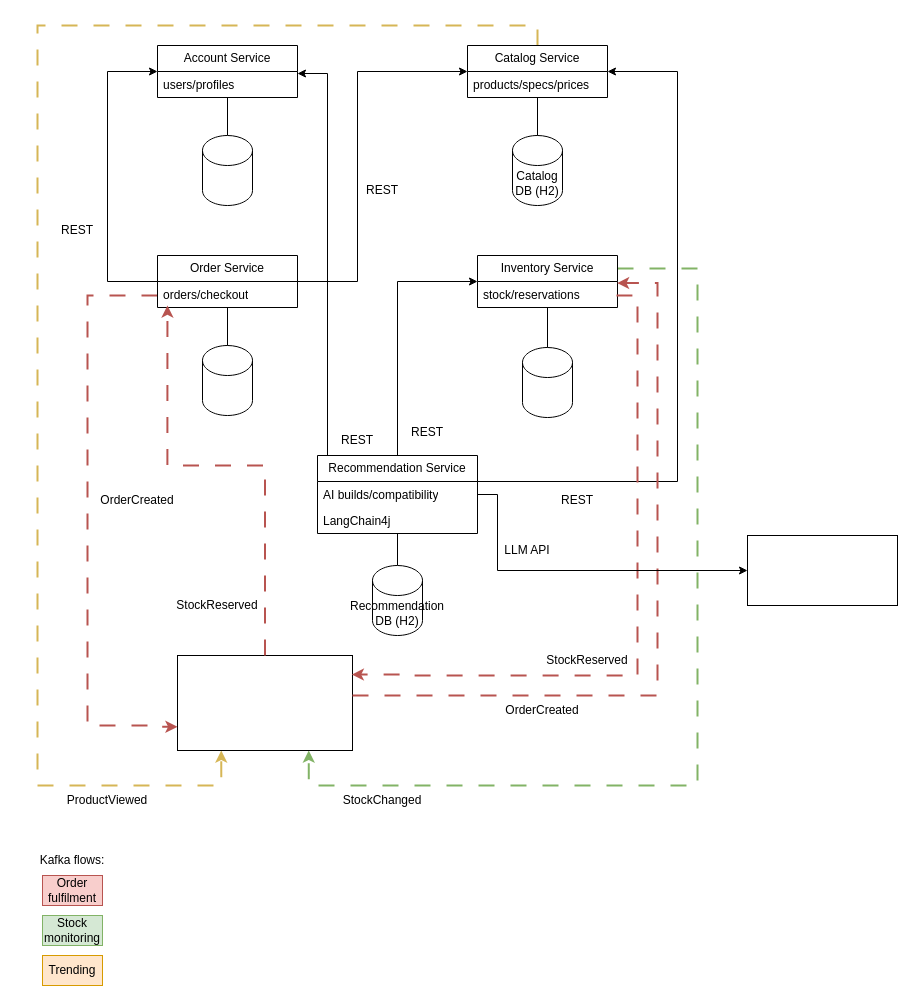
This 915x1003 diagram has some shape labels left out. The centre of each missing label's shape, as x and y in pixels:
"Account DB (H2)" goes at point (227, 170).
"Apache Kafka Event Bus" goes at point (264, 702).
"Inventory DB (H2)" goes at point (547, 382).
"LLM Provider (OpenAI / Gimini etc)" goes at point (822, 570).
"Order DB (H2)" goes at point (227, 380).
